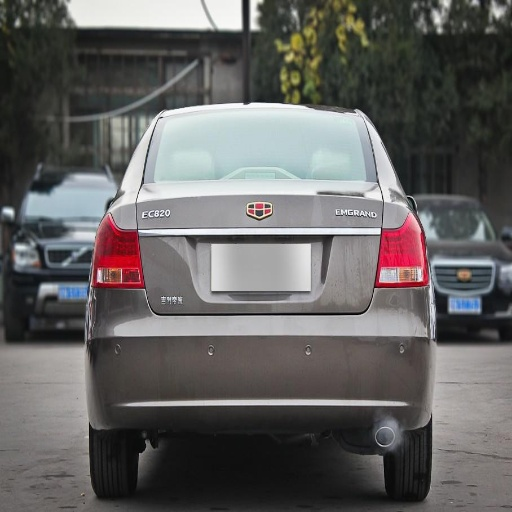back_bumper: (89, 285, 432, 445)
